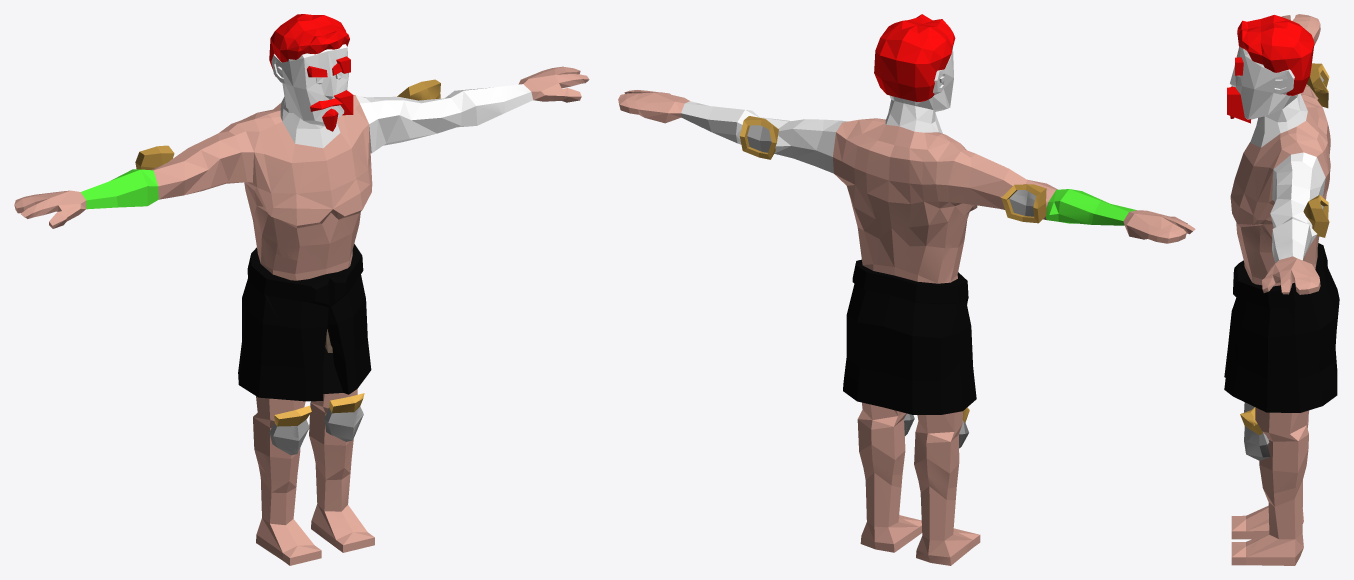
File: 50Fractures.fbx
The picture shows the model from 3 angles, left to right: view 1: azimuth 30°, elevation 25°; view 2: azimuth 150°, elevation 25°; view 3: azimuth 270°, elevation 25°; orthographic projection.
Parts seen in each view (by area): view 1: Torso_M_1, Belt_1, Belt_1_cell.001, Arm_M_R, Head_M_1, Calf_M_R, Hair_M_1, Torso_M_1_cell.001, Forearm_M_R, Torso_M_1_cell.002, Belt_1_cell, Arm_M_L (+18 smaller); view 2: Torso_M_1, Belt_1, Belt_1_cell, Hair_M_1, Calf_M_L, Torso_M_1_cell.004, Arm_M_L, Calf_M_R_cell, Arm_M_R_cell.001, Arm_M_R, Forearm_M_L, Head_M_1 (+19 smaller); view 3: Belt_1, Torso_M_1, Belt_1_cell.001, Head_M_1, Hair_M_1, Belt_1_cell, Torso_M_1_cell.002, Arm_M_L, Calf_M_L, Foot_M_L, Calf_M_L_cell, Head_M_1_cell.001 (+23 smaller).
Part boxes in pixels (x1,y1,x2,y2): Torso_M_1: [231, 95, 369, 280]; Belt_1: [239, 244, 366, 398]; Belt_1_cell.001: [261, 256, 367, 399]; Arm_M_R: [151, 124, 253, 199]; Head_M_1: [271, 44, 348, 147]; Calf_M_R: [253, 417, 300, 525]; Hair_M_1: [269, 14, 349, 62]; Torso_M_1_cell.001: [244, 182, 338, 260]; Forearm_M_R: [81, 169, 158, 209]; Torso_M_1_cell.002: [319, 117, 372, 274]; Belt_1_cell: [238, 254, 371, 401]; Arm_M_L: [356, 95, 461, 122]; Torso_M_1: [833, 118, 970, 283]; Belt_1: [843, 259, 975, 414]; Belt_1_cell: [850, 274, 976, 414]; Hair_M_1: [874, 14, 955, 98]; Calf_M_L: [857, 419, 905, 527]; Torso_M_1_cell.004: [881, 198, 961, 283]; Arm_M_L: [758, 117, 848, 173]; Calf_M_R_cell: [915, 433, 959, 498]; Arm_M_R_cell.001: [948, 162, 1054, 219]; Arm_M_R: [948, 149, 1057, 201]; Forearm_M_L: [681, 102, 757, 144]; Head_M_1: [885, 47, 953, 133]; Belt_1: [1224, 243, 1339, 412]; Torso_M_1: [1230, 94, 1330, 286]; Belt_1_cell.001: [1224, 288, 1310, 400]; Head_M_1: [1230, 46, 1307, 147]; Hair_M_1: [1237, 16, 1314, 82]; Belt_1_cell: [1242, 244, 1339, 412]; Torso_M_1_cell.002: [1234, 164, 1323, 285]; Arm_M_L: [1270, 152, 1325, 227]; Calf_M_L: [1272, 435, 1308, 539]; Foot_M_L: [1231, 533, 1303, 565]; Calf_M_L_cell: [1265, 434, 1308, 539]; Head_M_1_cell.001: [1230, 65, 1294, 146].
Bounding box in the file's own units: 20902 × 18397 × 3676.
